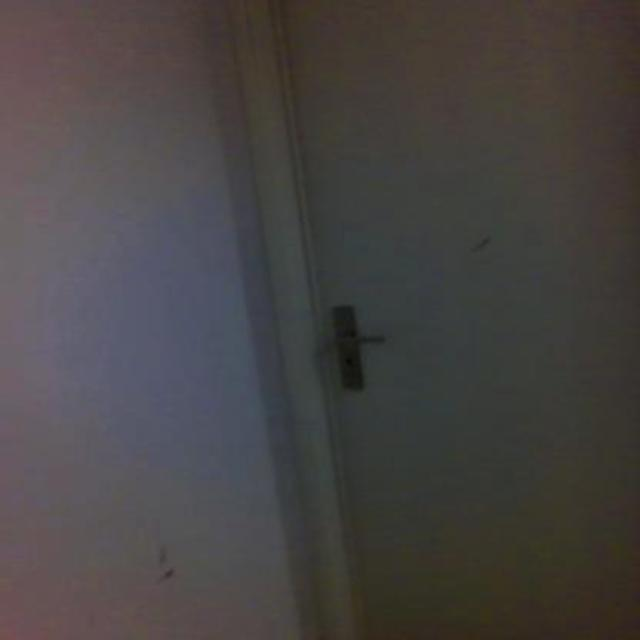door: (247, 0, 638, 638)
